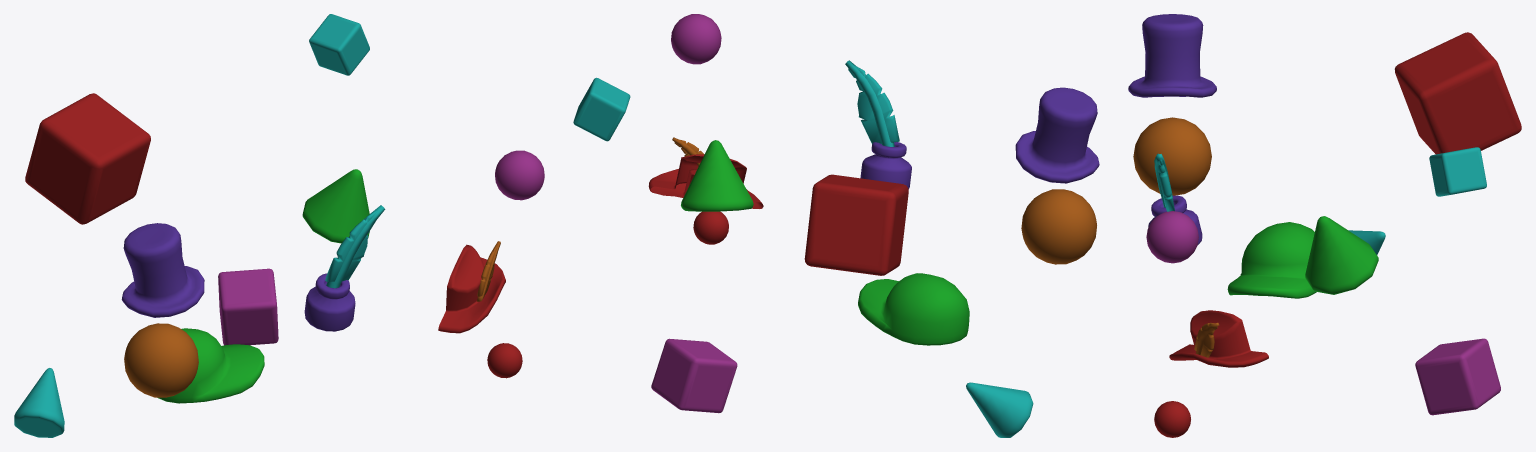
The model's file is demo_shapes.glb.
3 renders of one model, left to right at view 1: azimuth 30°, elevation 25°; view 2: azimuth 150°, elevation 25°; view 3: azimuth 270°, elevation 25°, orthographic. The views are drawn at different scales.
Parts seen in each view (by area): view 1: .cube .red, #tophat .hat .purple, .ball .orange, .cube .pink, #baseball-cap .hat .green, #feather-cap .hat .red, .cone .green, .cube .blue, .cone .blue, #inkwell .purple, .ball .pink, .feather .blue (+2 smaller); view 2: .cube .red, #baseball-cap .hat .green, #tophat .hat .purple, .cube .pink, .ball .orange, .cone .green, .cone .blue, .cube .blue, .feather .blue, .ball .pink, #inkwell .purple, #feather-cap .hat .red (+1 smaller); view 3: .cube .red, #tophat .hat .purple, .cube .pink, #baseball-cap .hat .green, .ball .orange, .cone .green, #feather-cap .hat .red, .cube .blue, .ball .pink, .ball .red, .feather .blue, #inkwell .purple (+2 smaller).
Part boxes in pixels (x1,y1,x2,y2): .cube .red: (25,93,150,224); #tophat .hat .purple: (121,223,204,317); .ball .orange: (124,323,198,397); .cube .pink: (218,268,278,345); #baseball-cap .hat .green: (157,328,264,403); #feather-cap .hat .red: (438,244,505,333); .cone .green: (302,169,369,243); .cube .blue: (309,14,369,75); .cone .blue: (14,368,64,437); #inkwell .purple: (304,273,355,331); .ball .pink: (495,150,544,200); .feather .blue: (325,205,385,288); .cube .red: (804,174,908,275); #baseball-cap .hat .green: (858,273,969,345); #tophat .hat .purple: (1015,87,1099,183); .cube .pink: (651,338,737,413); .ball .orange: (1021,189,1096,264); .cone .green: (681,140,753,211); .cone .blue: (966,382,1033,437); .cube .blue: (573,77,630,141); .feather .blue: (845,60,899,146); .ball .pink: (671,14,721,64); #inkwell .purple: (860,142,911,189); #feather-cap .hat .red: (648,154,763,208); .cube .red: (1394,32,1521,154); #tophat .hat .purple: (1128,14,1216,97); .cube .pink: (1415,338,1500,415); #baseball-cap .hat .green: (1227,222,1316,298); .ball .orange: (1133,117,1211,195); .cone .green: (1305,216,1378,294); #feather-cap .hat .red: (1169,310,1268,367); .cube .blue: (1429,147,1486,196); .ball .pink: (1146,211,1198,263); .ball .red: (1154,401,1190,437); .feather .blue: (1154,153,1174,211); #inkwell .purple: (1148,195,1202,244).
Bounding box in the file's own units: 2.1 × 1.36 × 1.56.
